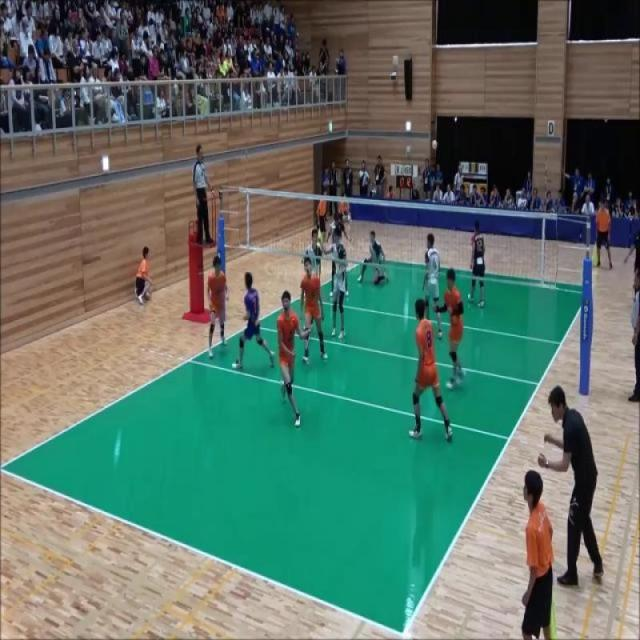volleyball: (432, 139, 437, 150), (346, 214, 351, 222)
